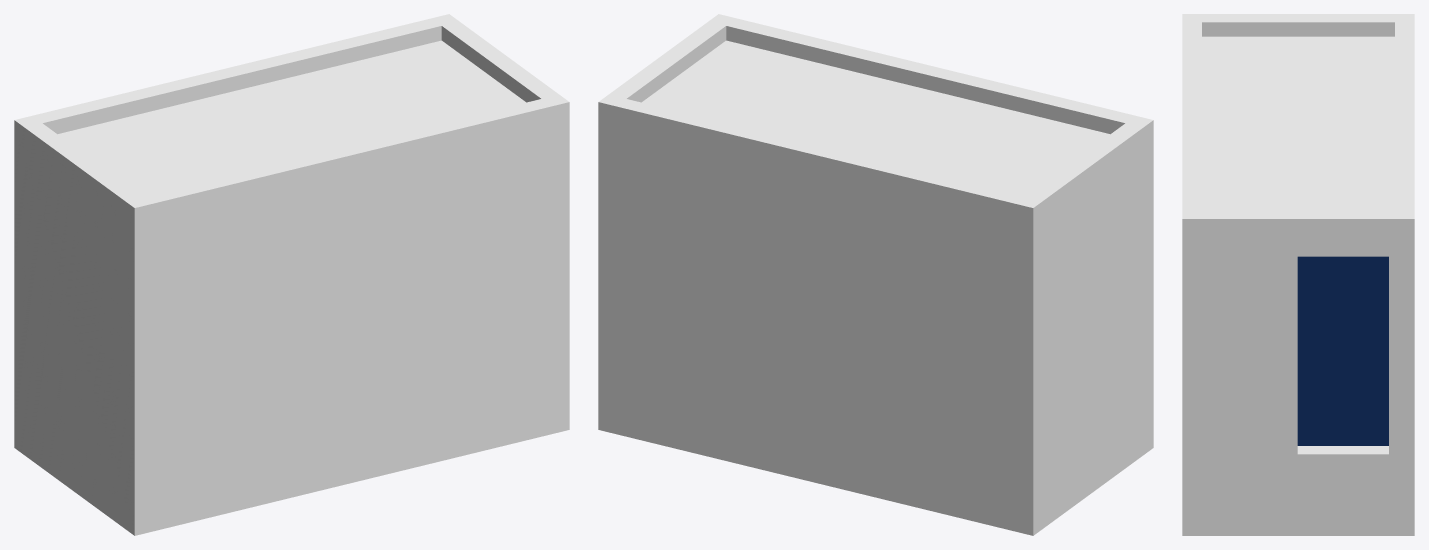
The model's file is house_03.fbx.
3 views of the same model, side by side, from view 1: azimuth 30°, elevation 25°; view 2: azimuth 150°, elevation 25°; view 3: azimuth 270°, elevation 25° (orthographic). The views are drawn at different scales.
Parts seen in each view (by area): view 1: house_03; view 2: house_03; view 3: house_03.
Boxes of the visible parts, x1=… form: house_03: x1=14, y1=14, x2=569, y2=535; house_03: x1=598, y1=14, x2=1153, y2=535; house_03: x1=1182, y1=14, x2=1414, y2=535.
Bounding box in the file's own units: 342 × 247 × 164.
1 material, 1 textured.
